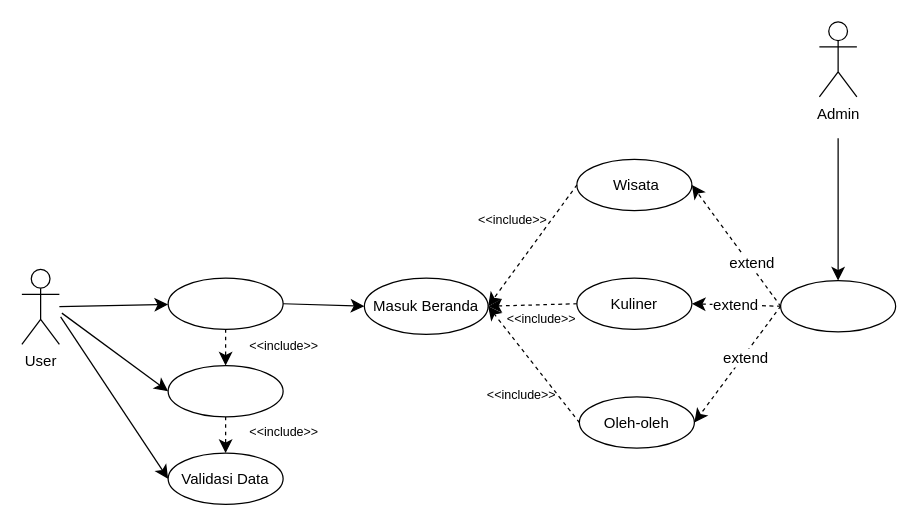
Some shapes in this 918 by 526 pixel diagram are drawn without their labels. The shapes that lost their labels are listed below. From the top down, each one's centre as x and y in pixels, then its label:
(x=225, y=303): Login
(x=837, y=305): Ulasan
(x=225, y=390): Register
